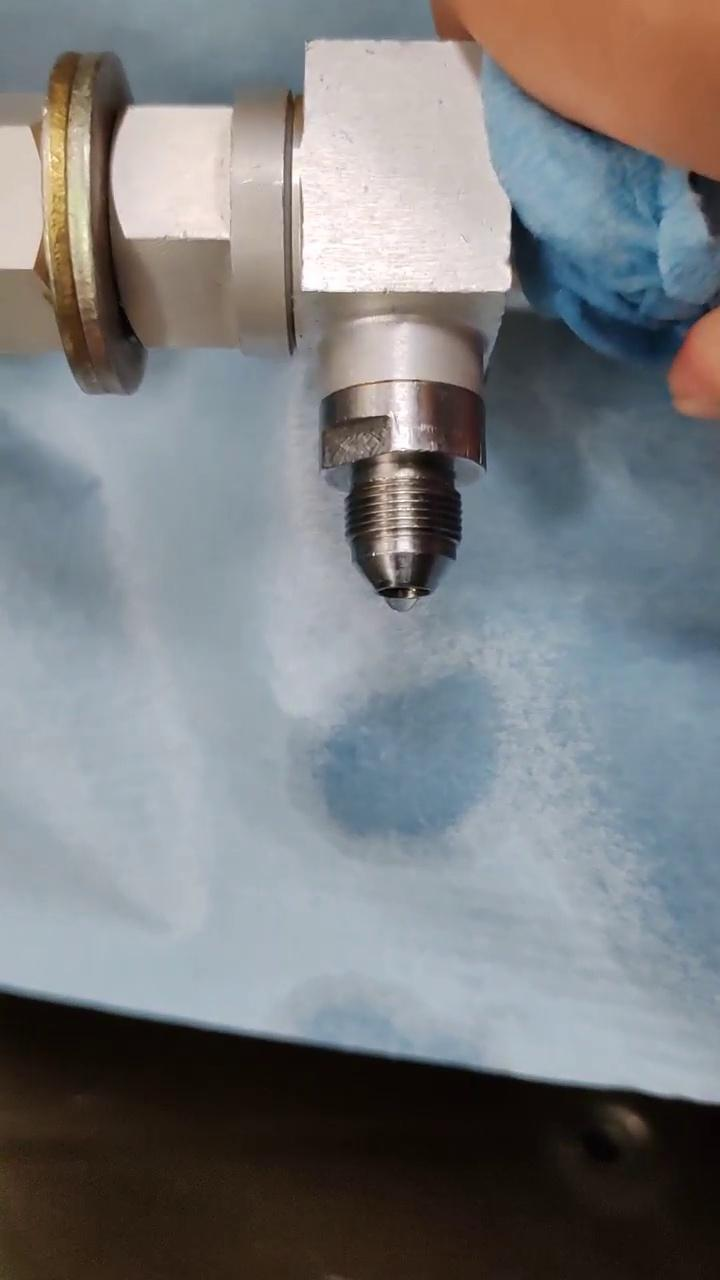water drop: (384, 593, 418, 611)
